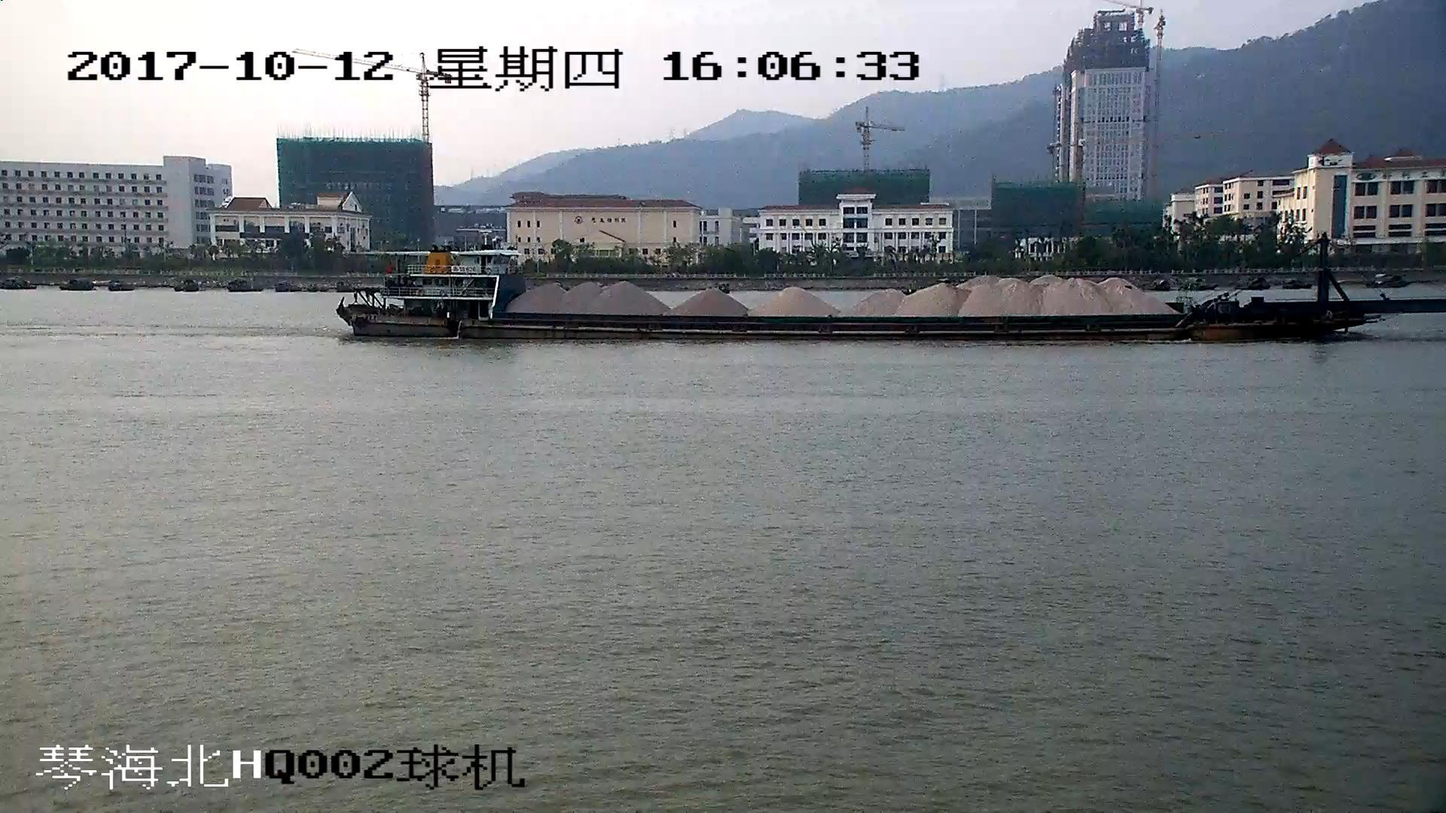ore carrier: (337, 242, 1445, 343)
